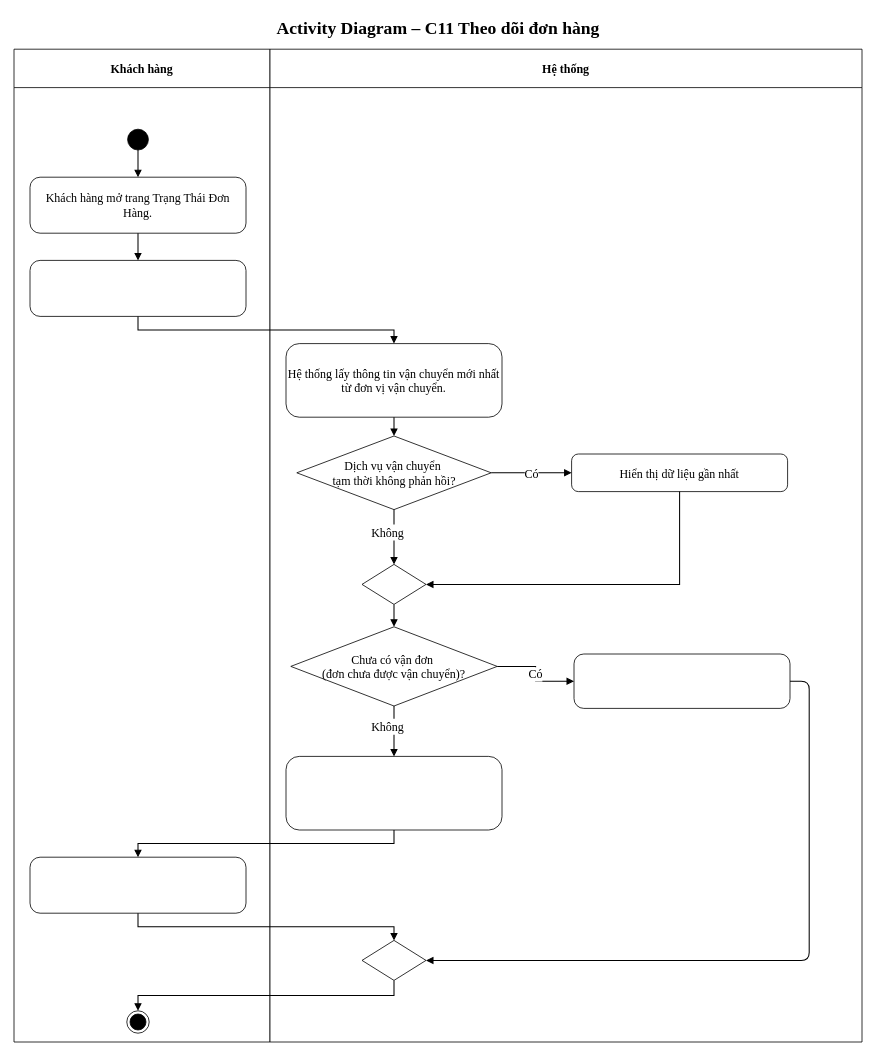
This 876x1056 diagram has some shape labels left out. The shapes that lost their labels are listed below. From the top down, each one's centre as x and y in pixels, then its label:
At (137,288): "Khách hàng chọn Theo Dõi Lô Hàng.".
At (681,680): "Hiển thị trạng thái đang chuẩn bị".
At (393,793): "Hệ thống hiển thị ngày giao dự kiến, mã theo dõi và địa chỉ giao.".
At (137,884): "Khách hàng xem chi tiết hành trình nếu có.".
